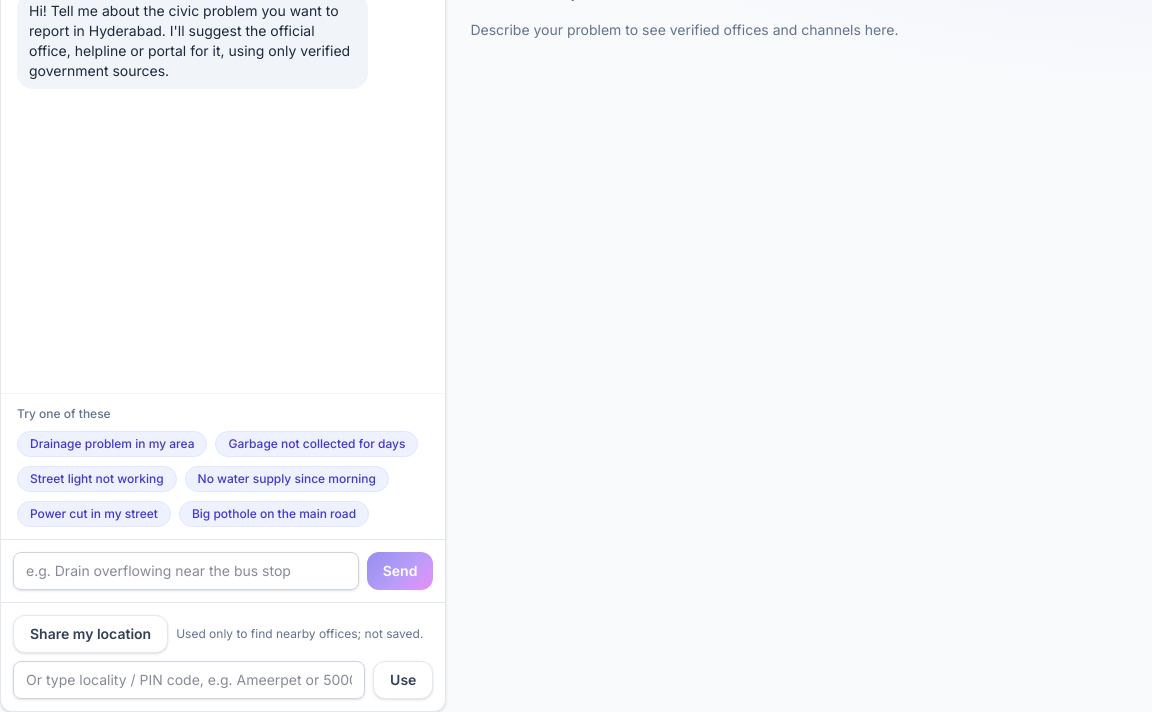
Test case: phone is not shown when the record has none
(page scrolled)
In the field named "Describe your problem": (186, 571) [13, 552, 359, 590], type "drain blocked"
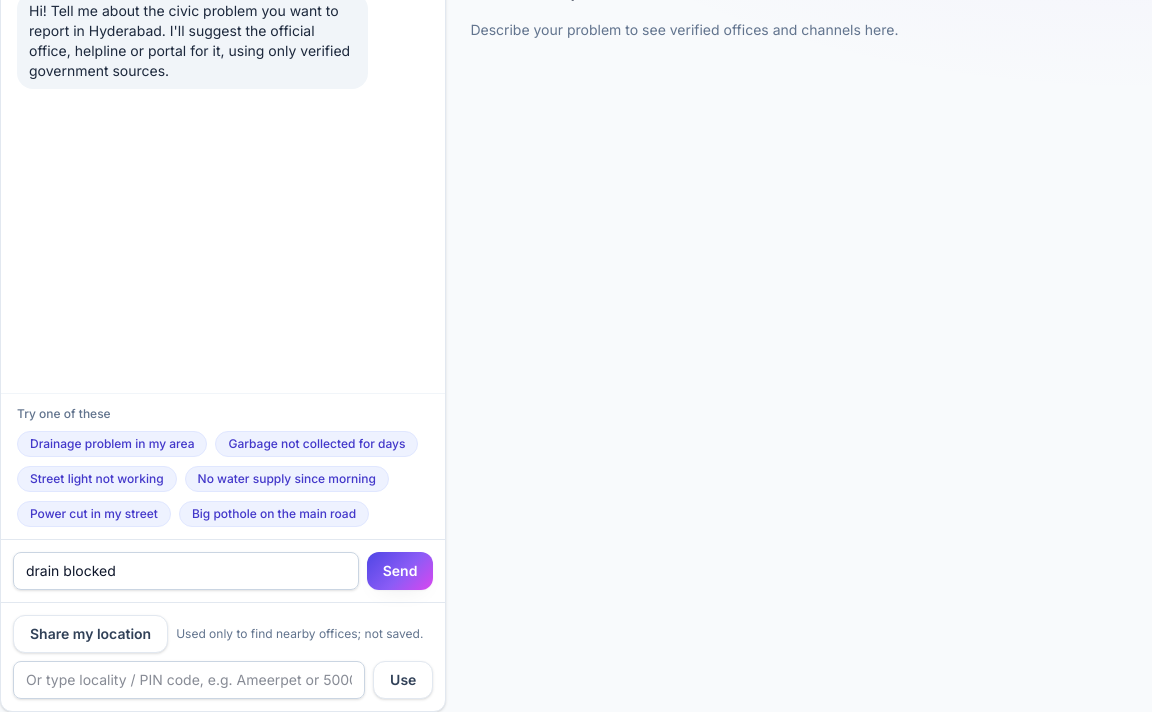
Click the button "Send": (400, 571) [367, 552, 433, 590]
(page scrolled)
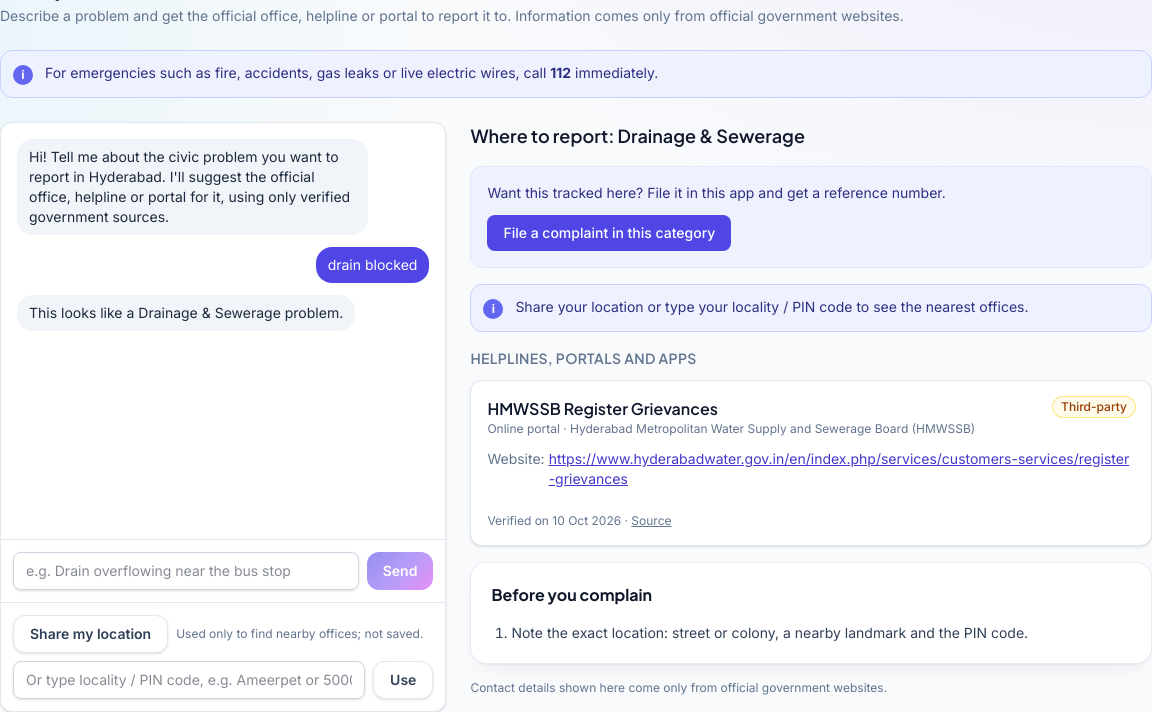
Result: the heading "HMWSSB Register Grievances" is shown at [487, 398, 718, 419]
